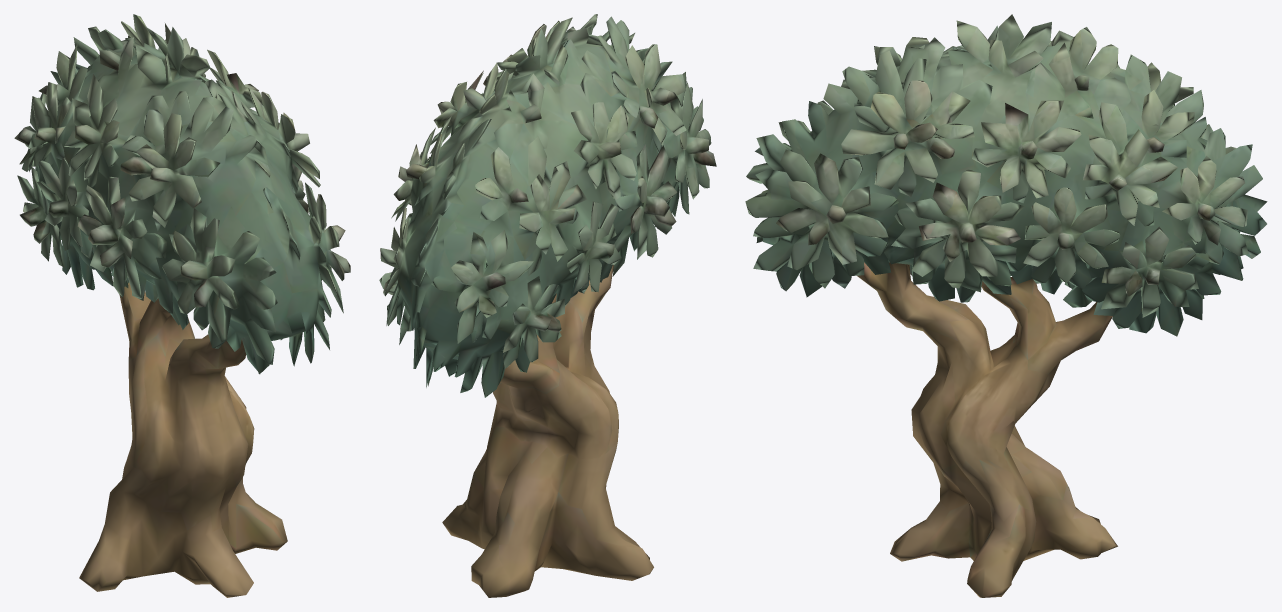
The model's file is olive.glb.
The picture shows the model from 3 angles, left to right: view 1: azimuth 30°, elevation 25°; view 2: azimuth 150°, elevation 25°; view 3: azimuth 270°, elevation 25°; orthographic projection.
Parts seen in each view (by area): view 1: tripo_node_1677c3c9-53b0-4acb-97d3-2393cc353215; view 2: tripo_node_1677c3c9-53b0-4acb-97d3-2393cc353215; view 3: tripo_node_1677c3c9-53b0-4acb-97d3-2393cc353215.
Part boxes in pixels (x1,y1,x2,y2): tripo_node_1677c3c9-53b0-4acb-97d3-2393cc353215: [14, 14, 350, 597]; tripo_node_1677c3c9-53b0-4acb-97d3-2393cc353215: [379, 14, 716, 597]; tripo_node_1677c3c9-53b0-4acb-97d3-2393cc353215: [745, 14, 1267, 597].
Bounding box in the file's own units: 0.4198 × 1 × 0.8769.
Materials: 1 (1 with a texture image).
